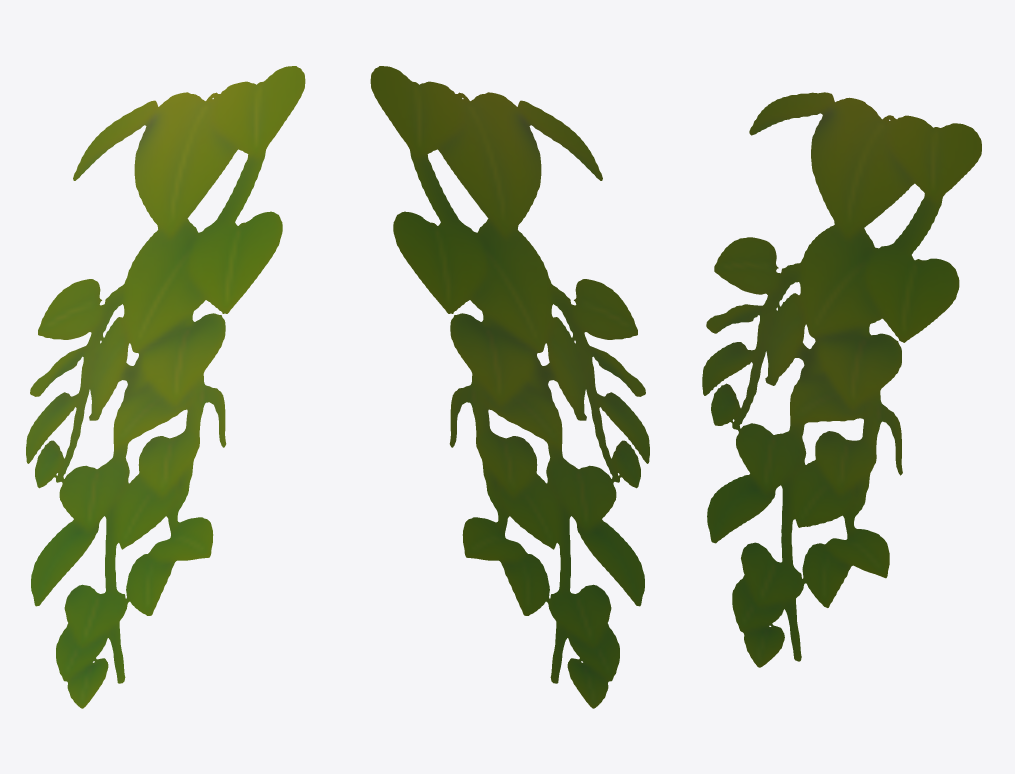
Rendered from Vine08.fbx.
3 renders of one model, left to right at view 1: azimuth 30°, elevation 25°; view 2: azimuth 150°, elevation 25°; view 3: azimuth 330°, elevation 25°, orthographic.
Visible parts, largest first — view 1: Vine.003; view 2: Vine.003; view 3: Vine.003.
Part boxes in pixels (<box>): Vine.003: <box>26,66,305,708</box>; Vine.003: <box>370,66,649,708</box>; Vine.003: <box>702,92,981,667</box>.
Bounding box in the file's own units: 150 × 310 × 3.1e-05.
1 material, 1 textured.
